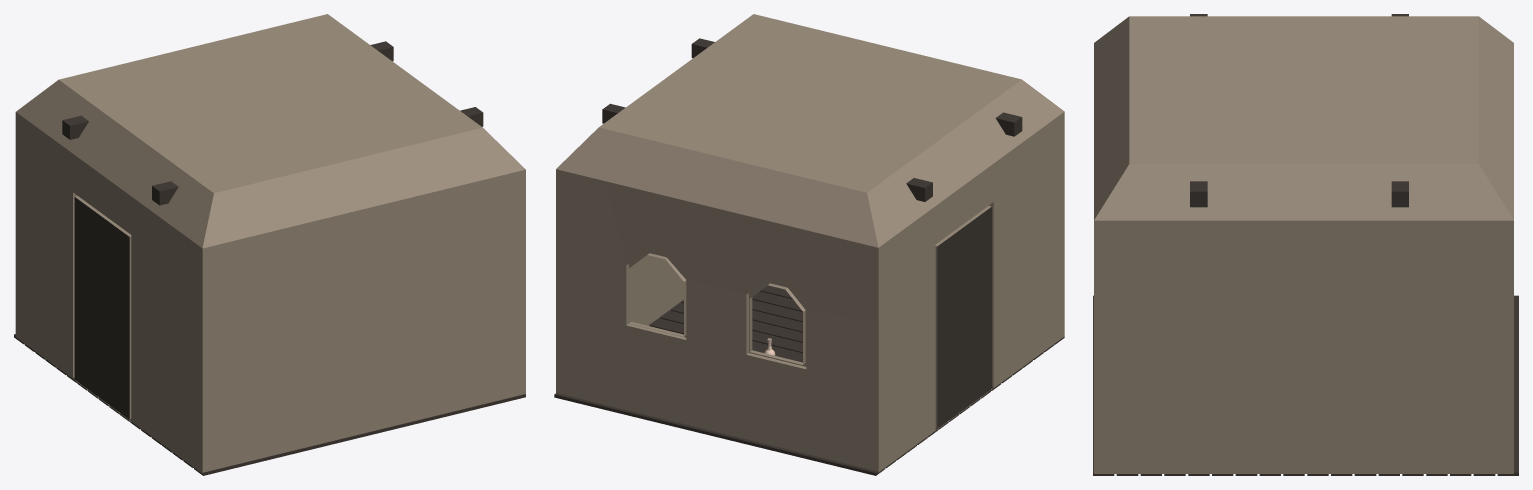
The model's file is workshop.glb.
3 renders of one model, left to right at view 1: azimuth 30°, elevation 25°; view 2: azimuth 150°, elevation 25°; view 3: azimuth 270°, elevation 25°, orthographic. The views are drawn at different scales.
Visible parts, largest first — view 1: Room; view 2: Room; view 3: Room.
Boxes of the visible parts, x1,y1,x2,y2 form: Room: (14, 14, 525, 475); Room: (554, 14, 1064, 475); Room: (1093, 14, 1518, 475).
Bounding box in the file's own units: 3.61 × 2.82 × 3.65.
